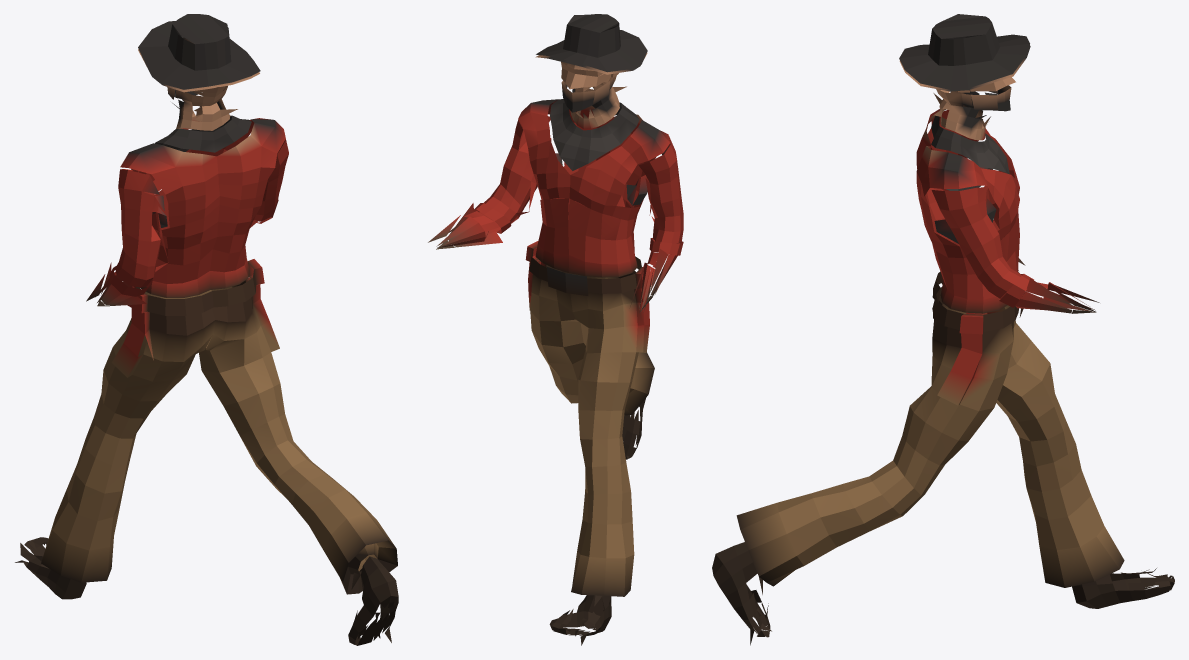
File: man_1_w1.fbx
3 views of the same model, side by side, from view 1: azimuth 30°, elevation 25°; view 2: azimuth 150°, elevation 25°; view 3: azimuth 270°, elevation 25° (orthographic). The views are drawn at different scales.
Visible parts, largest first — view 1: cowboy; view 2: cowboy; view 3: cowboy.
Boxes of the visible parts, x1,y1,x2,y2 form: cowboy: (15,14,398,645); cowboy: (428,14,683,645); cowboy: (712,14,1174,645).
Size of the model in its own units: 0.3603 by 0.9727 by 0.6585.
